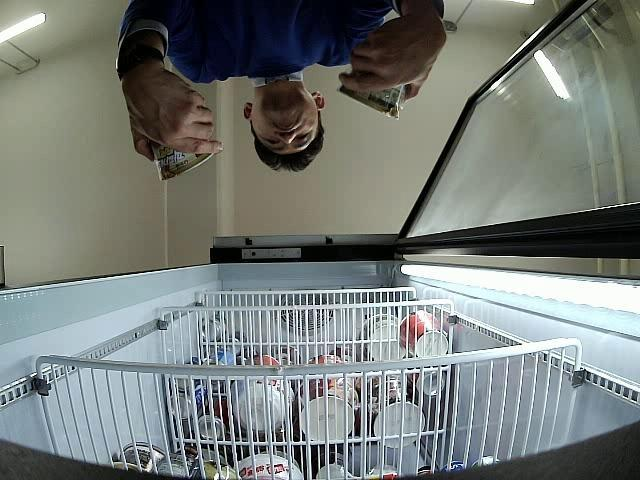04_chapagetti_S: (152, 139, 214, 182), (337, 84, 408, 119)
